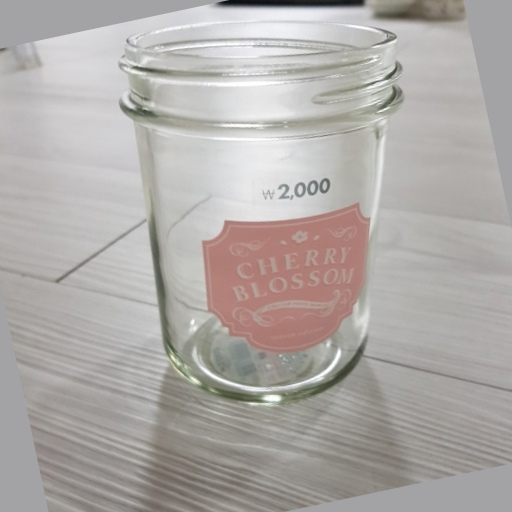Glass_5: (119, 18, 406, 407)
